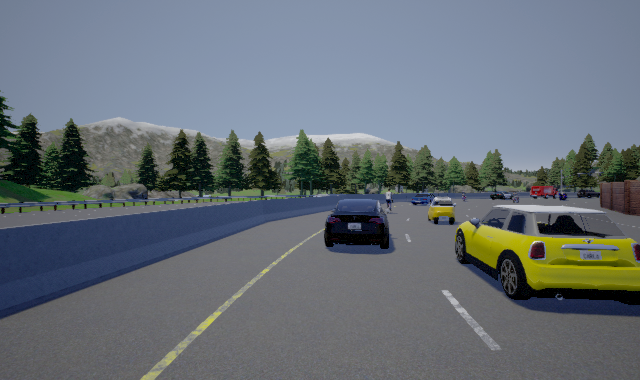bike: (383, 188, 395, 212)
vehicle: (455, 205, 640, 305), (324, 199, 391, 249), (411, 193, 456, 225), (530, 186, 568, 201)
